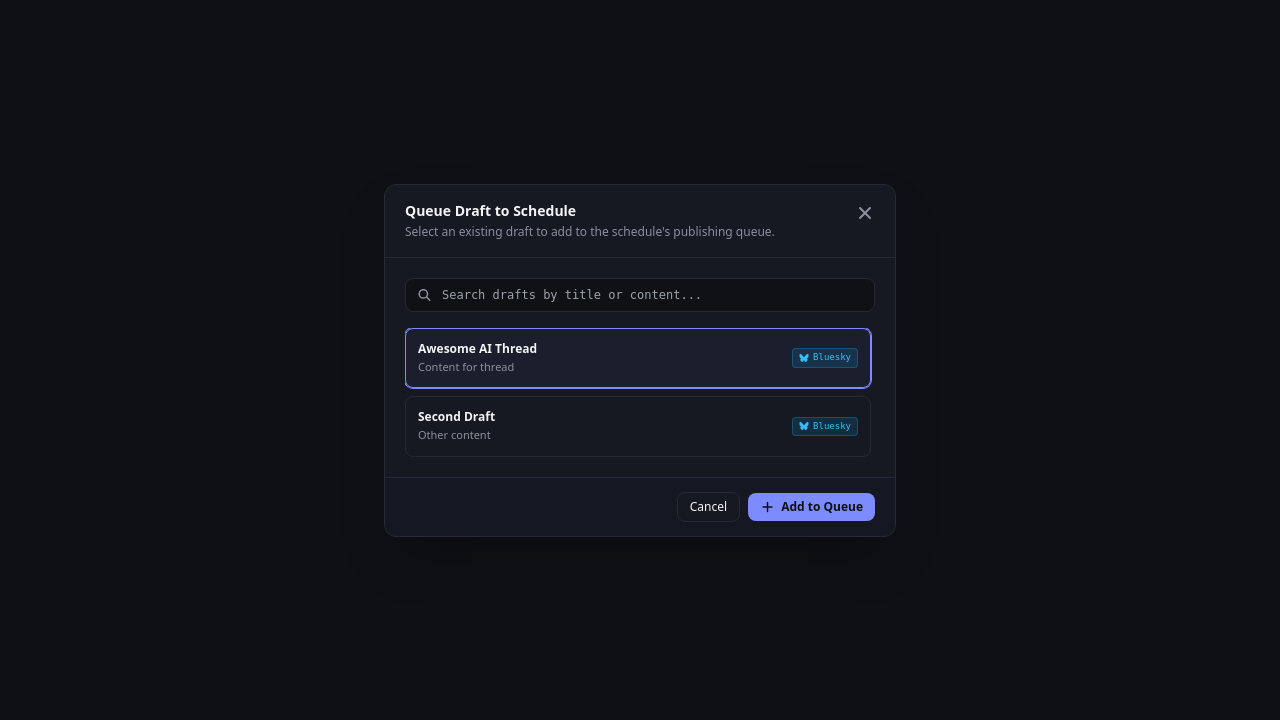
Test: DraftPickerModal › filters drafts by search input
expect the heading "Awesome AI Thread" is shown: met, box [418, 340, 537, 356]
Step 1. Type "Second" into the field with test id "draft-search-input" → (640, 294), box [405, 278, 875, 312]
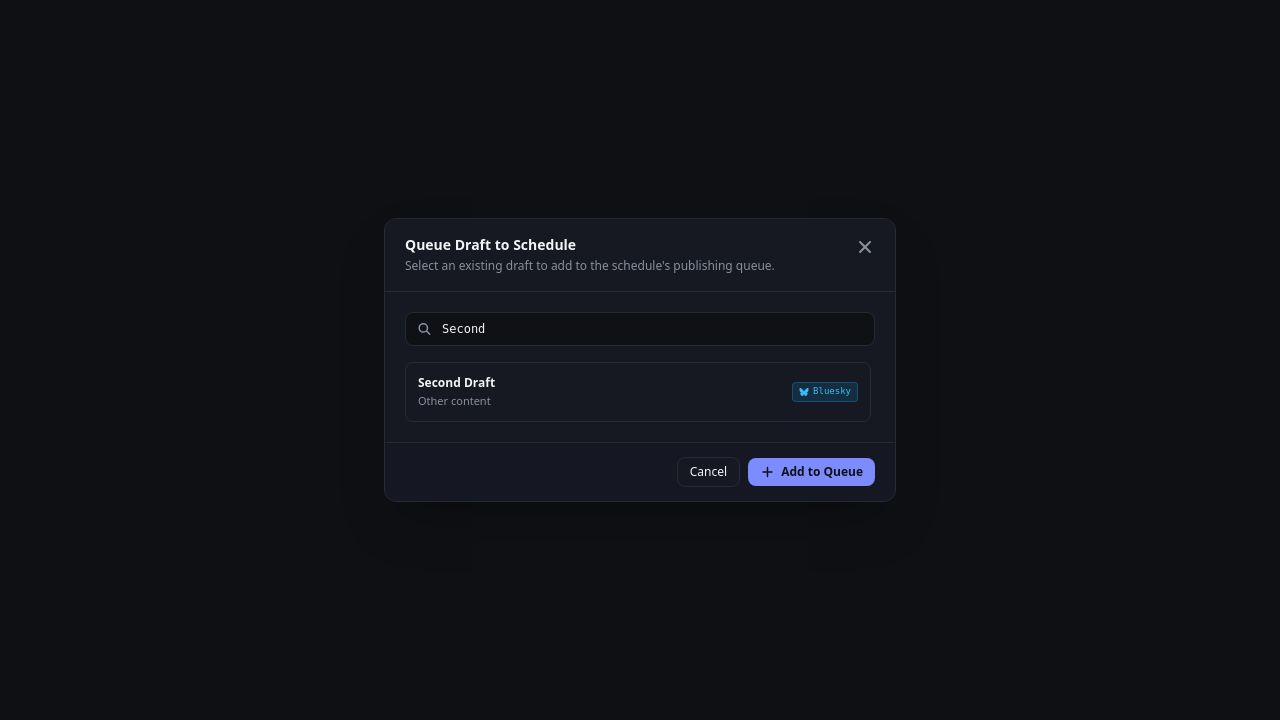
expect the heading "Second Draft" is shown: met, box [418, 375, 495, 391]
expect the heading "Awesome AI Thread" is gone: met
